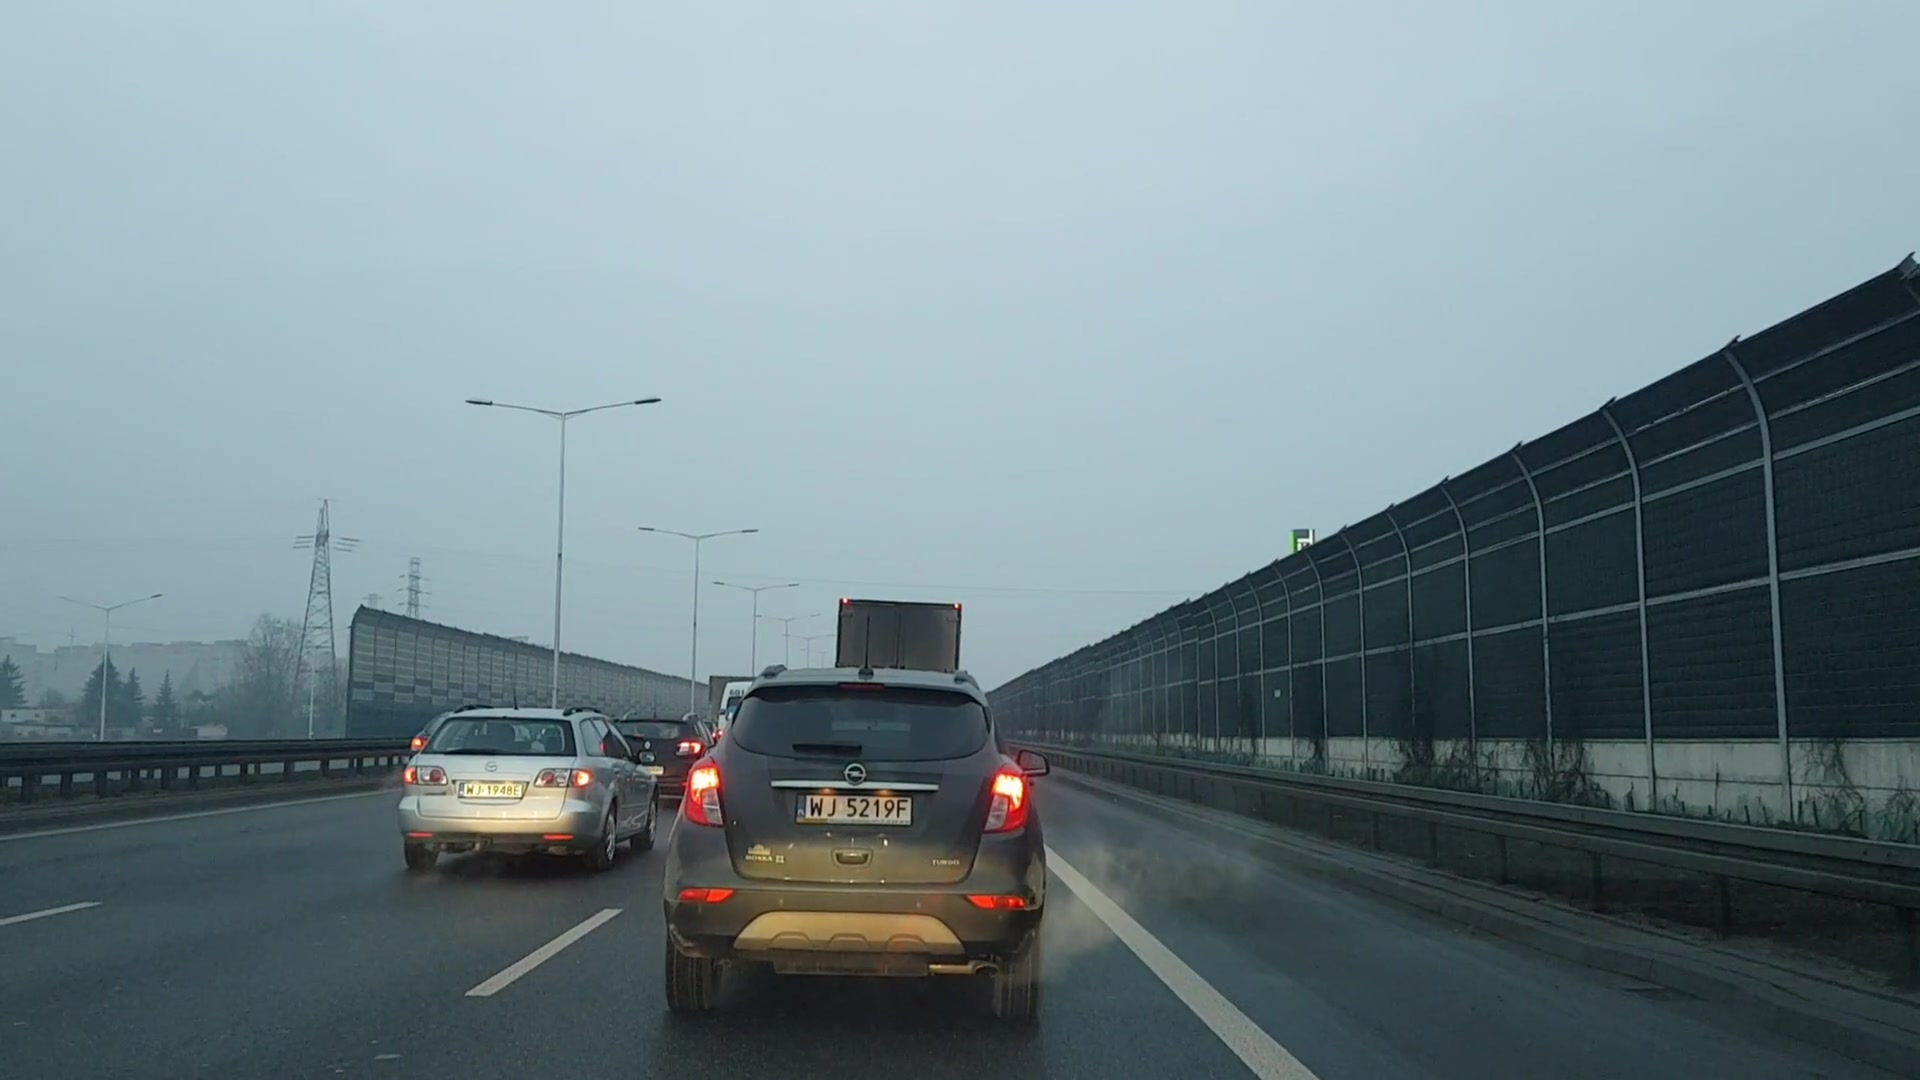car: (644, 663, 1056, 1027), (384, 705, 661, 885)
